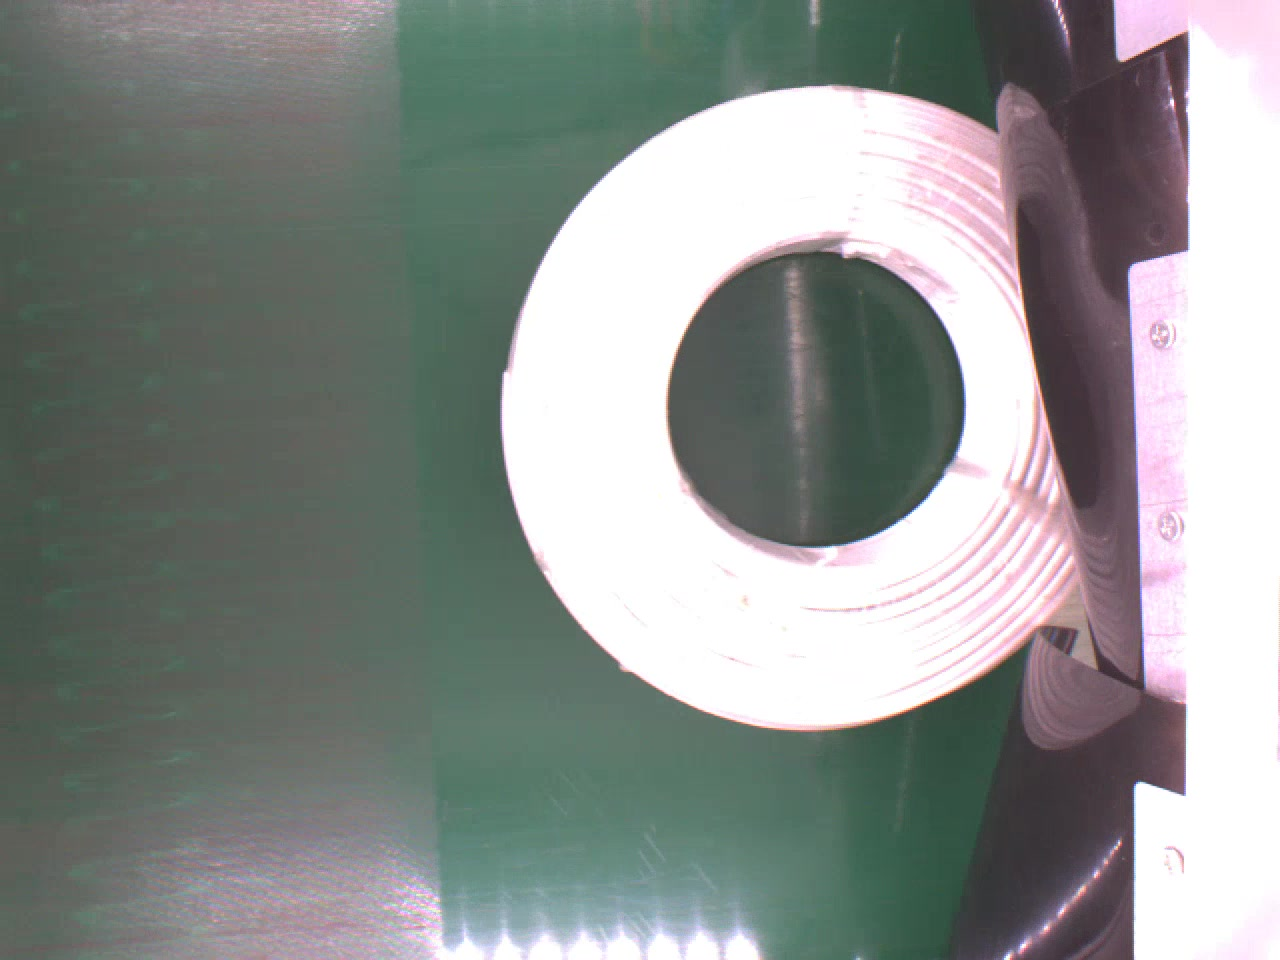white: (498, 80, 1077, 727)
